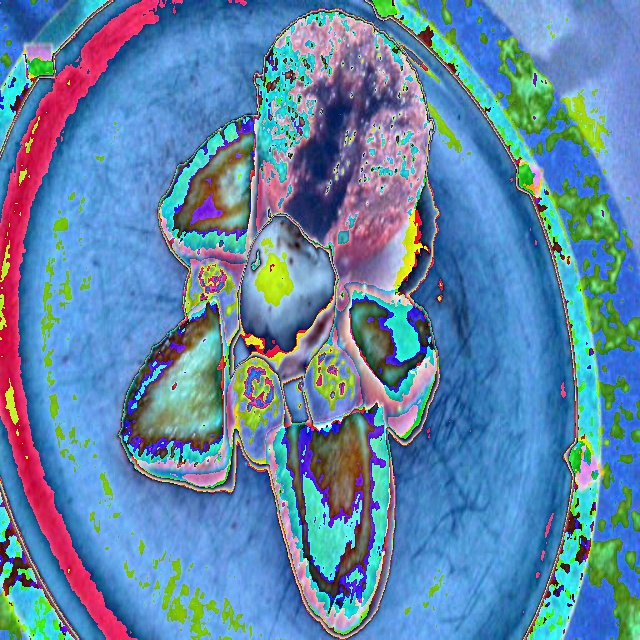background: (120, 5, 438, 633)
